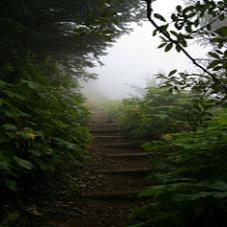Stair Up: (53, 103, 151, 226)
